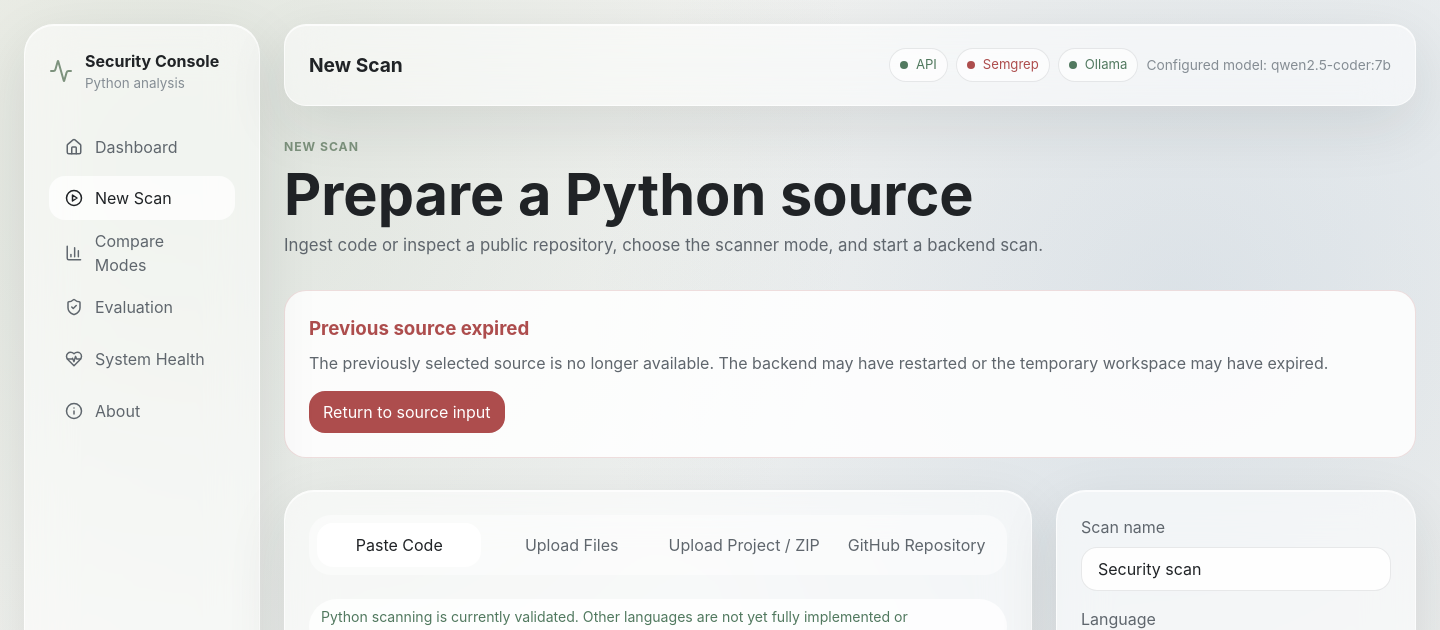
it: Phase 4 pages › recovers from stale source IDs after backend restart or expiry
The image size is (1440, 630).
Check: the heading "Previous source expired" is shown, box top-left (309, 317), bottom-right (529, 340)
Check: the text "backend may have restarted or the temporary workspace may have expired" is shown, box top-left (309, 353), bottom-right (1328, 373)
Click the button "Return to source input": [407, 412] box top-left (309, 391), bottom-right (504, 433)
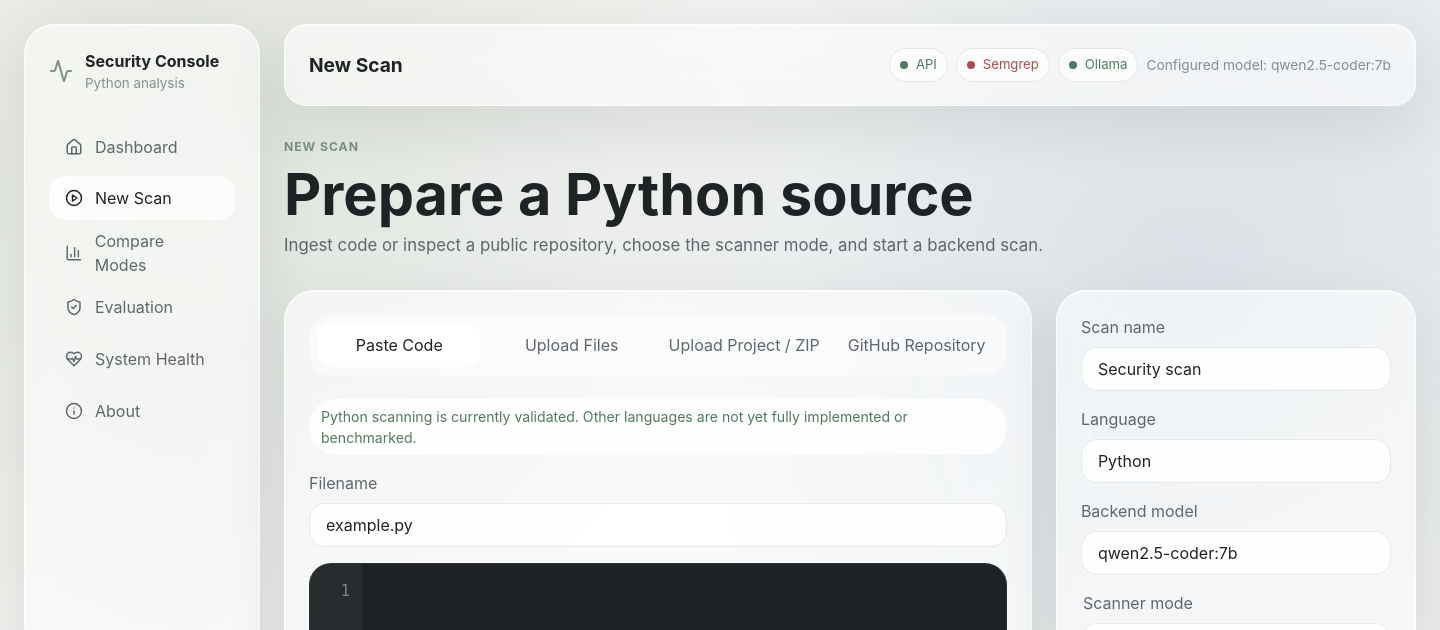
Check: the heading "Previous source expired" is gone
